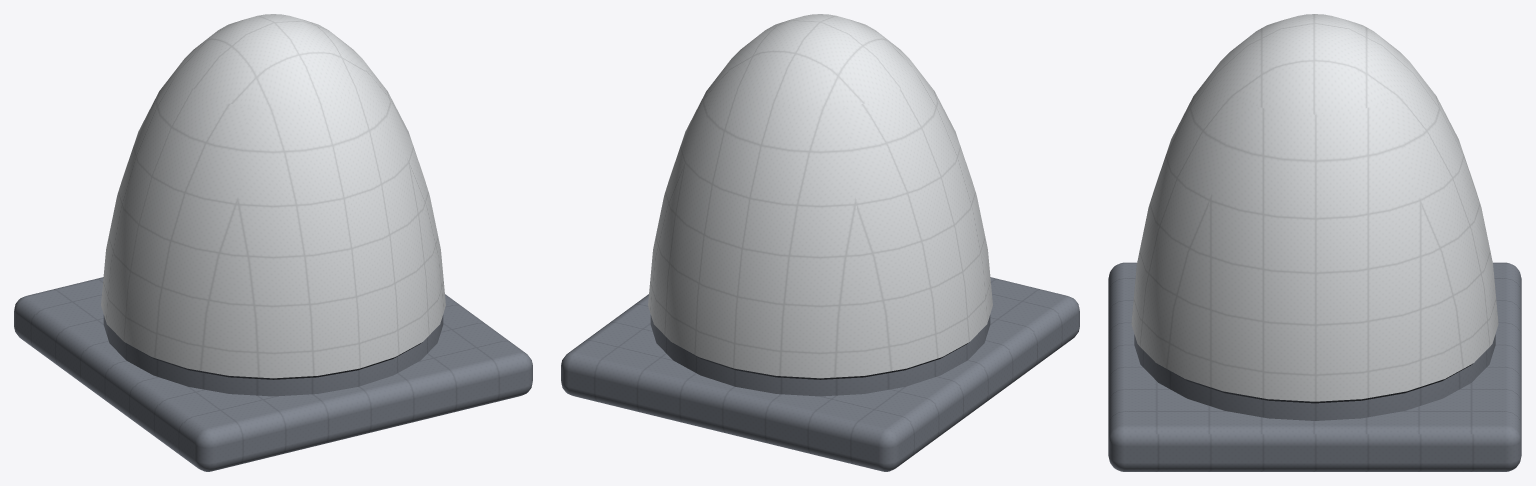
Rendered from R4B_Dome.glb.
3 renders of one model, left to right at view 1: azimuth 30°, elevation 25°; view 2: azimuth 150°, elevation 25°; view 3: azimuth 270°, elevation 25°, orthographic. The views are drawn at different scales.
Parts seen in each view (by area): view 1: R4B_Dome; view 2: R4B_Dome; view 3: R4B_Dome.
Part boxes in pixels (<box>): R4B_Dome: <box>14,14,532,471</box>; R4B_Dome: <box>561,14,1079,471</box>; R4B_Dome: <box>1108,14,1521,471</box>.
Size of the model in its own units: 0.512 by 0.506 by 0.512.
Materials: 3 (3 with a texture image).
